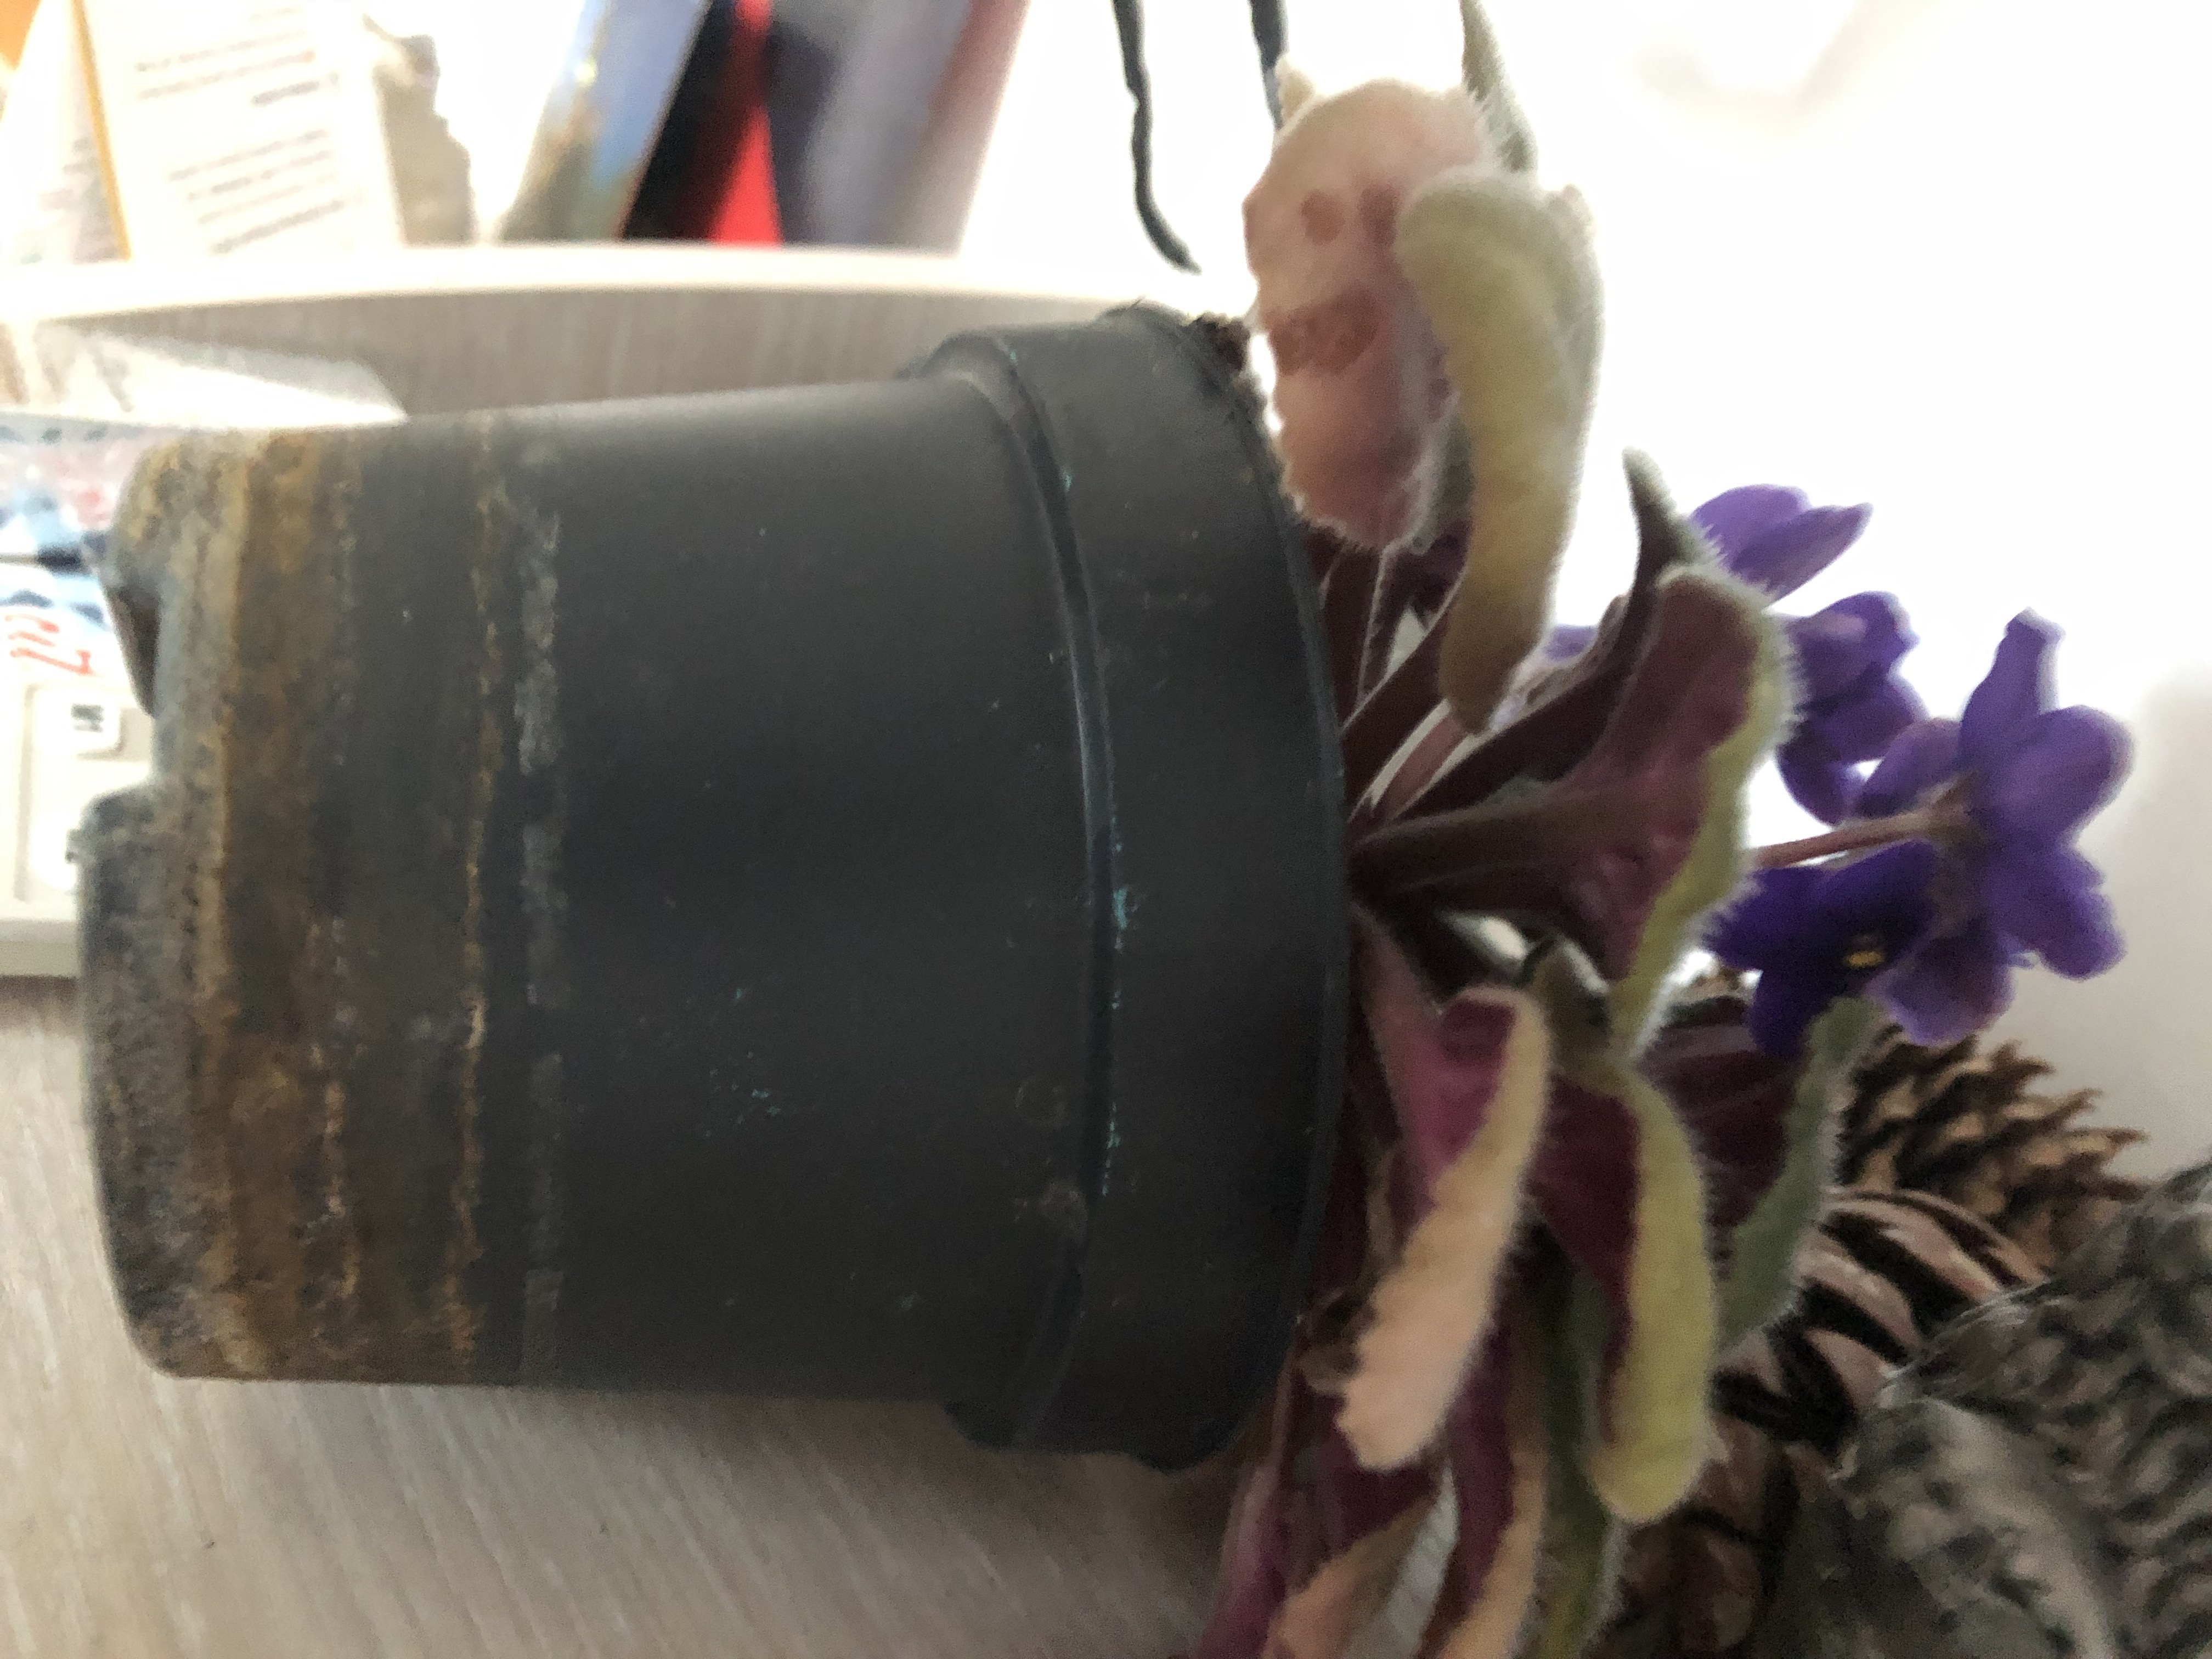ignore: (1195, 68, 2148, 1652)
